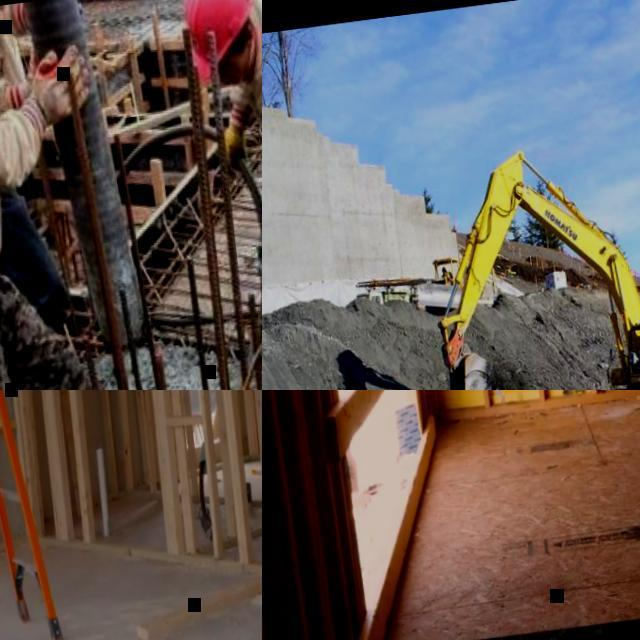helmet: (179, 0, 253, 79)
vest: (442, 272, 451, 281)
